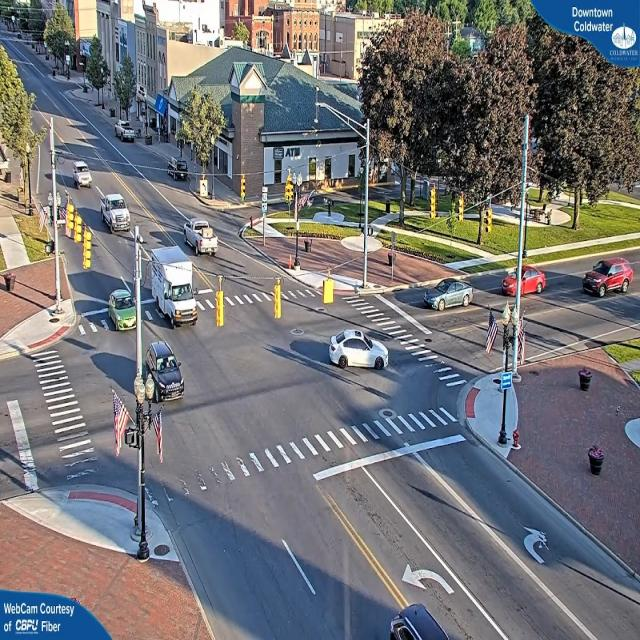car: (145, 340, 185, 403), (331, 331, 390, 369), (584, 258, 634, 298), (424, 278, 474, 311), (108, 284, 138, 332), (501, 267, 546, 297), (99, 194, 132, 233), (74, 160, 94, 188), (117, 122, 137, 144)
truck: (150, 245, 199, 330)
